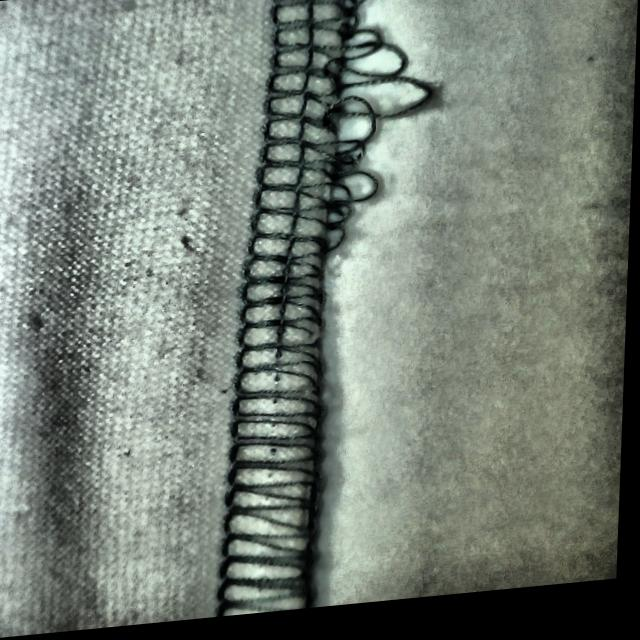Stitch: (246, 0, 440, 265)
